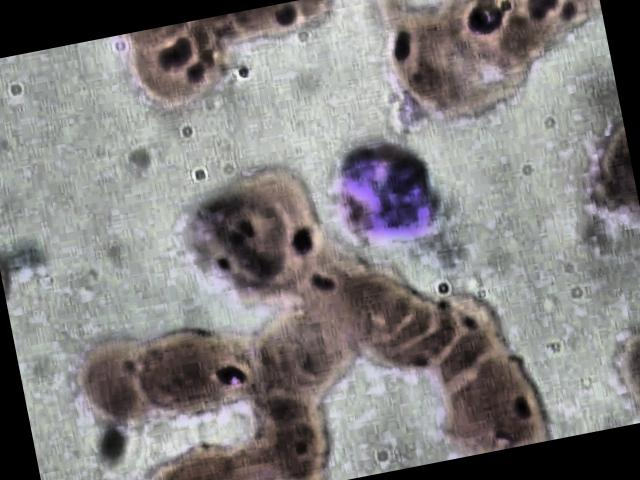RBC: (165, 180, 298, 312), (118, 15, 240, 127), (251, 295, 373, 407), (365, 7, 487, 119), (140, 316, 264, 426), (434, 347, 556, 458), (50, 326, 175, 432)
WBC: (326, 128, 448, 252)
